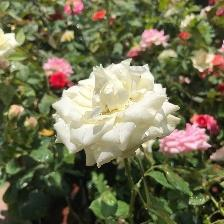rose: (53, 59, 182, 172), (164, 126, 215, 156), (141, 26, 172, 49), (49, 69, 71, 94)
